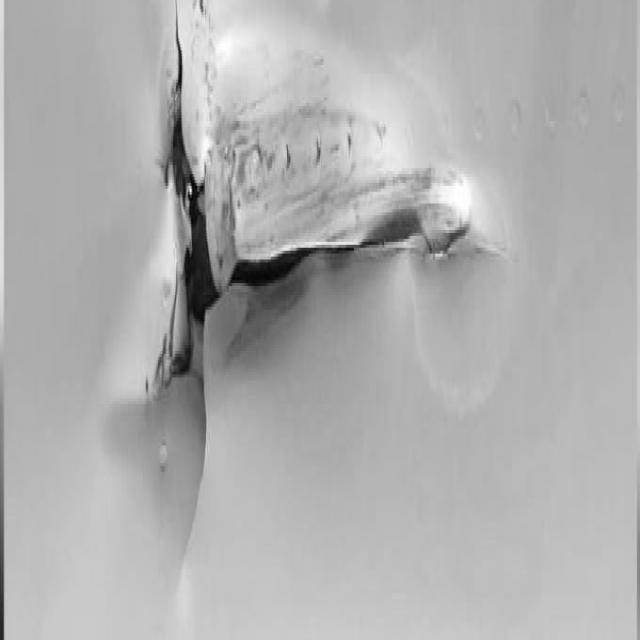crack: (130, 4, 571, 532)
